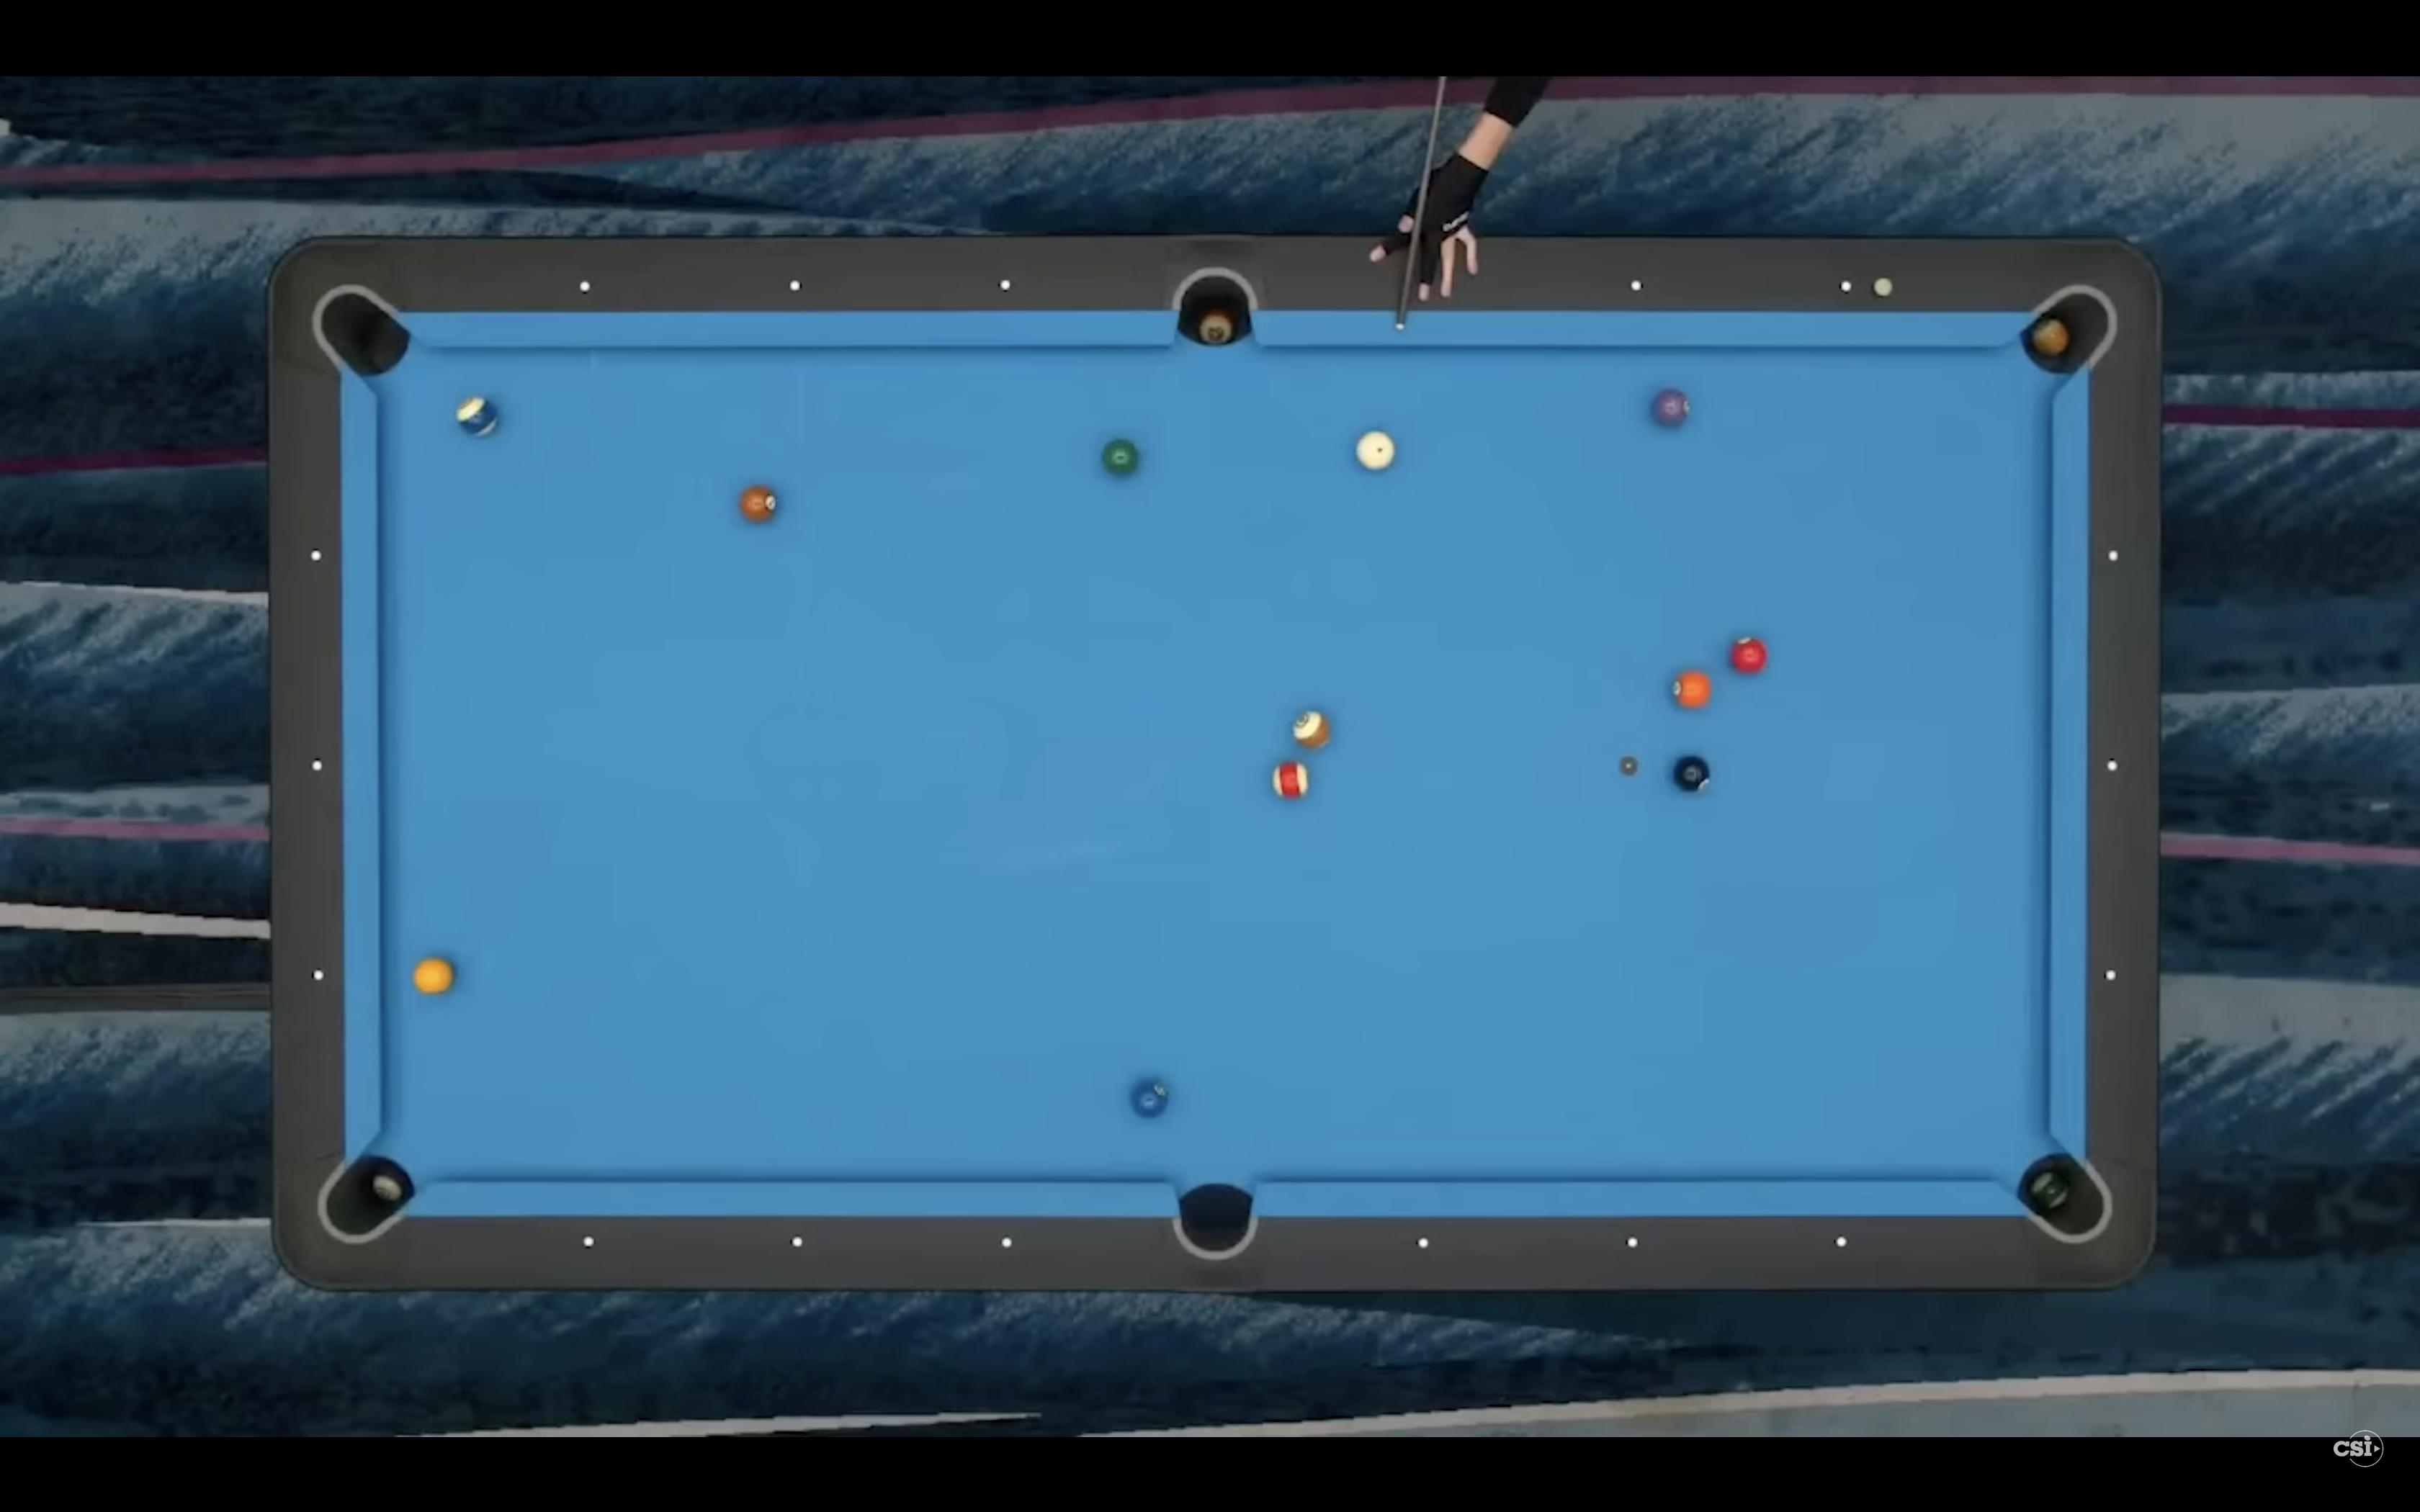Black: (1673, 754, 1711, 793)
Cue: (1354, 430, 1397, 476)
Dot: (2106, 549, 2122, 563), (1000, 1235, 1014, 1249), (1626, 1235, 1639, 1249), (1840, 280, 1854, 294), (310, 549, 324, 563), (582, 1235, 596, 1247), (1836, 1235, 1849, 1249), (2105, 969, 2119, 981), (2106, 758, 2119, 772), (312, 969, 324, 982), (1416, 1237, 1429, 1249), (1000, 279, 1012, 291), (789, 279, 801, 291), (578, 280, 591, 293), (793, 1235, 803, 1249), (1631, 279, 1641, 293), (312, 759, 322, 772)
Solid: (1650, 385, 1692, 432), (411, 955, 456, 995), (1101, 435, 1141, 479), (1727, 636, 1770, 676), (737, 481, 775, 526), (1673, 667, 1713, 709), (1129, 1082, 1173, 1118)
Striped: (455, 395, 502, 439), (1291, 707, 1335, 753), (1268, 758, 1312, 801)
